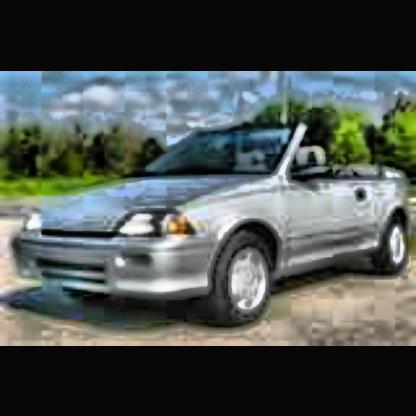Geo Metro Convertible 1993: (16, 120, 416, 346)
